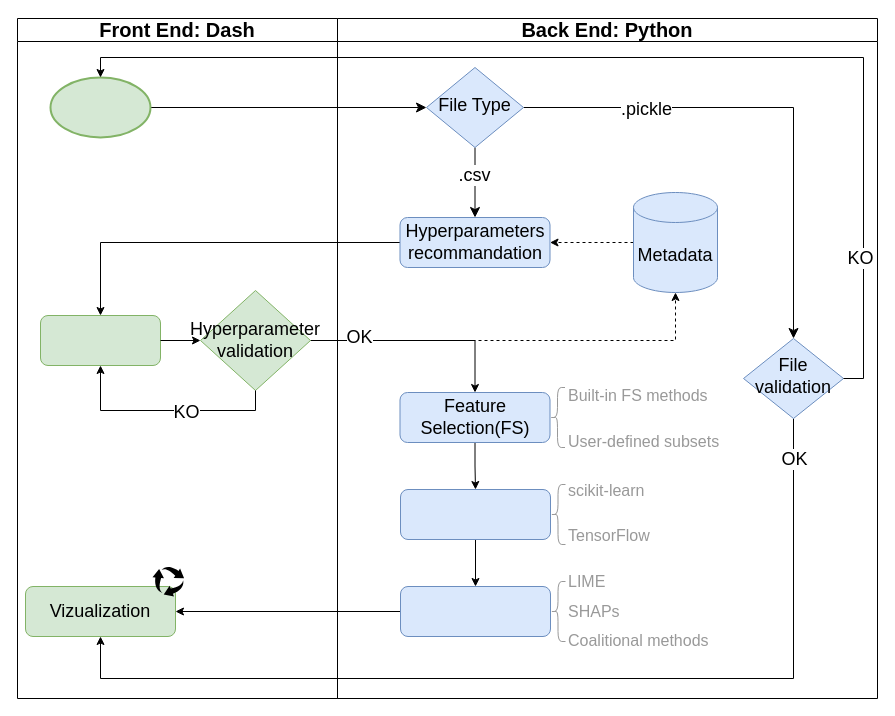
The diagram is 895 pixels wide and 716 high, and some of its shapes have lost their labels. Here are the shapes that lost their labels. From the top down, the centre of each, then its label:
At point (100, 107): "File Upload".
At point (100, 340): "Tuning".
At point (475, 514): "Model Training".
At point (475, 611): "XAI".
